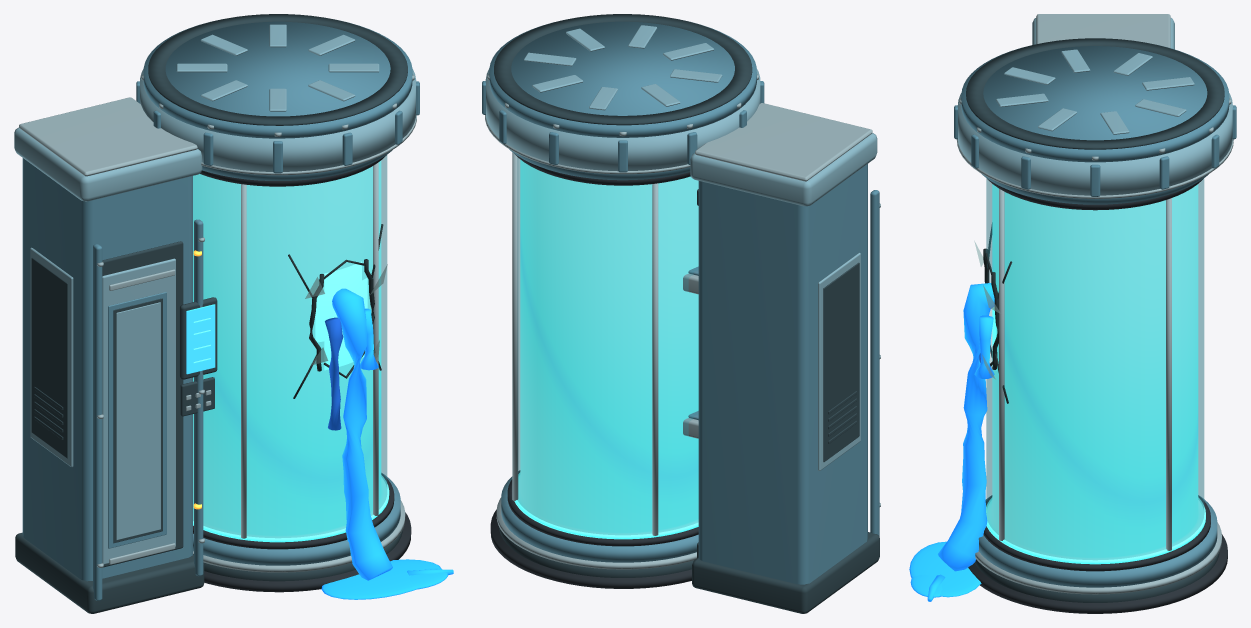
Rendered from BlueTube_BlueCrackedOozing_StudioTextured.glb.
3 views of the same model, side by side, from view 1: azimuth 30°, elevation 25°; view 2: azimuth 150°, elevation 25°; view 3: azimuth 270°, elevation 25° (orthographic).
Parts seen in each view (by area): view 1: Tube_Glossy_cobalt_blue_enamel, Tube_Cyan_energy_core, Tube_Cracked_cyan_glass_shell, Tube_Worn_light_blue_panels, Tube_Recessed_graphite, Tube_Polished_steel_edge, Tube_Electric_blue_ooze, Tube_Dark_rubber_gasket, Tube_Diagnostic_screen, Tube_Indicator_bright_cyan, Tube_Glass_fractures, Tube_Deep_blue_residue; view 2: Tube_Glossy_cobalt_blue_enamel, Tube_Cracked_cyan_glass_shell, Tube_Cyan_energy_core, Tube_Recessed_graphite, Tube_Worn_light_blue_panels, Tube_Polished_steel_edge, Tube_Dark_rubber_gasket, Tube_Indicator_bright_cyan; view 3: Tube_Cracked_cyan_glass_shell, Tube_Cyan_energy_core, Tube_Glossy_cobalt_blue_enamel, Tube_Worn_light_blue_panels, Tube_Polished_steel_edge, Tube_Electric_blue_ooze, Tube_Recessed_graphite, Tube_Dark_rubber_gasket, Tube_Indicator_bright_cyan, Tube_Glass_fractures.
Part boxes in pixels (x1,y1,x2,y2): Tube_Glossy_cobalt_blue_enamel: [22, 19, 419, 600]; Tube_Cyan_energy_core: [193, 160, 381, 535]; Tube_Cracked_cyan_glass_shell: [193, 155, 387, 537]; Tube_Worn_light_blue_panels: [14, 24, 416, 564]; Tube_Recessed_graphite: [15, 14, 407, 613]; Tube_Polished_steel_edge: [19, 74, 416, 572]; Tube_Electric_blue_ooze: [321, 288, 453, 599]; Tube_Dark_rubber_gasket: [193, 155, 411, 592]; Tube_Diagnostic_screen: [186, 304, 215, 374]; Tube_Indicator_bright_cyan: [193, 318, 389, 542]; Tube_Glass_fractures: [288, 224, 383, 398]; Tube_Deep_blue_residue: [325, 317, 343, 430]; Tube_Glossy_cobalt_blue_enamel: [482, 20, 879, 584]; Tube_Cracked_cyan_glass_shell: [517, 157, 698, 534]; Tube_Cyan_energy_core: [520, 159, 698, 532]; Tube_Recessed_graphite: [494, 14, 879, 613]; Tube_Worn_light_blue_panels: [485, 25, 877, 470]; Tube_Polished_steel_edge: [485, 74, 880, 569]; Tube_Dark_rubber_gasket: [490, 153, 698, 588]; Tube_Indicator_bright_cyan: [514, 473, 698, 539]; Tube_Cracked_cyan_glass_shell: [986, 178, 1204, 559]; Tube_Cyan_energy_core: [992, 184, 1198, 557]; Tube_Glossy_cobalt_blue_enamel: [954, 45, 1236, 587]; Tube_Worn_light_blue_panels: [957, 18, 1232, 195]; Tube_Polished_steel_edge: [956, 14, 1233, 594]; Tube_Electric_blue_ooze: [909, 283, 994, 601]; Tube_Recessed_graphite: [966, 38, 1224, 602]; Tube_Dark_rubber_gasket: [968, 178, 1227, 613]; Tube_Indicator_bright_cyan: [986, 497, 1205, 564]; Tube_Glass_fractures: [983, 223, 1012, 403].
Size of the model in its own units: 9.44 by 12.18 by 7.68.
Materials: 14 (14 with a texture image).
